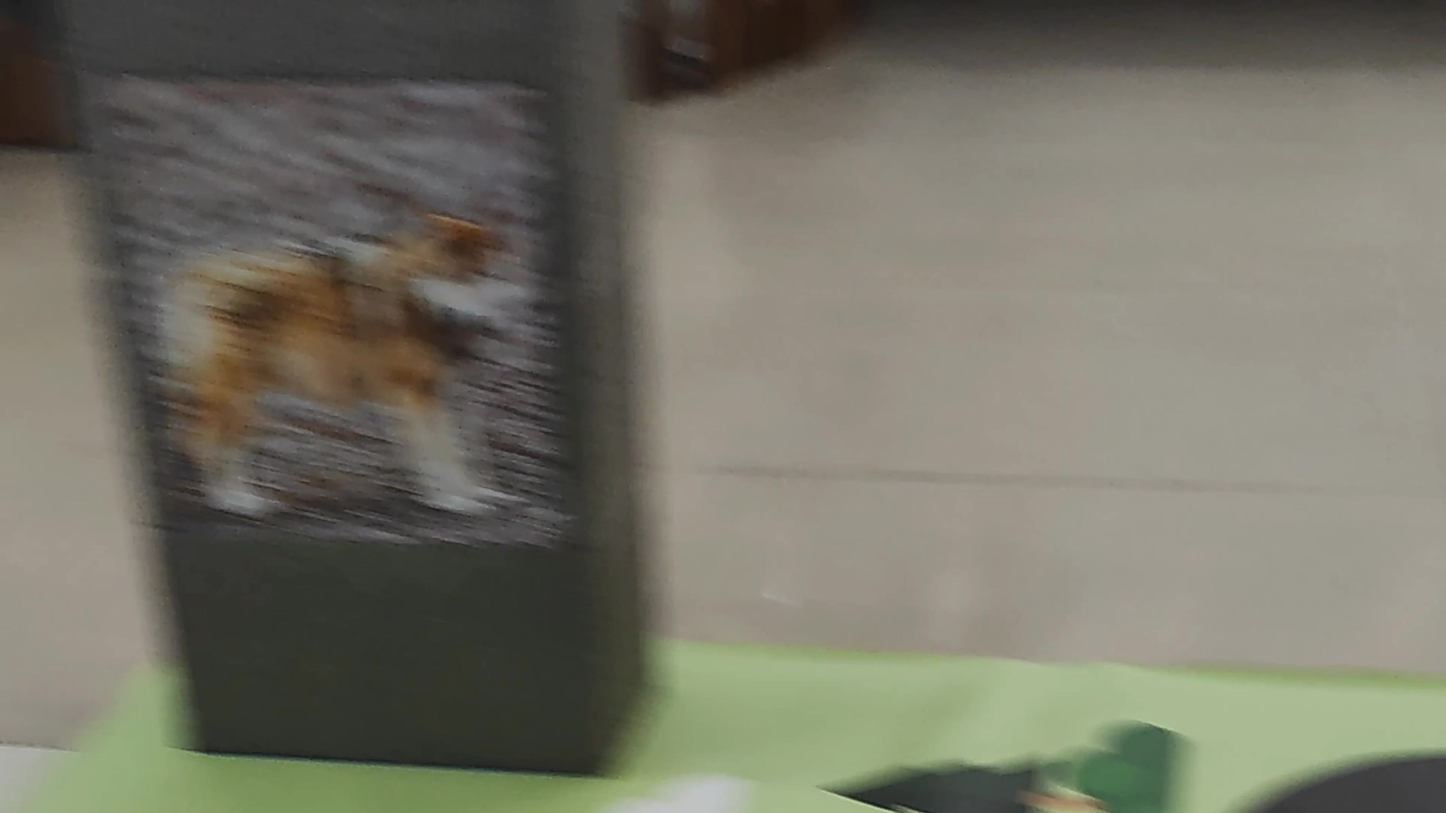wolf: (148, 193, 545, 538)
